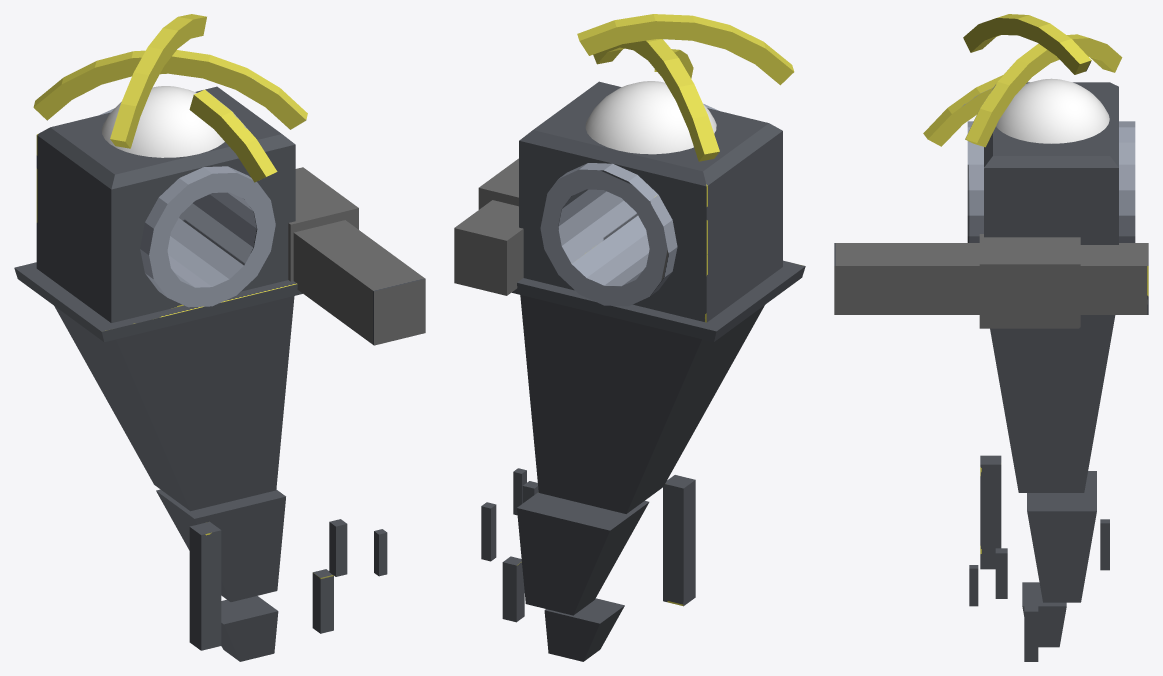
Rendered from StarRailNode.glb.
The picture shows the model from 3 angles, left to right: view 1: azimuth 30°, elevation 25°; view 2: azimuth 150°, elevation 25°; view 3: azimuth 270°, elevation 25°; orthographic projection. The views are drawn at different scales.
Parts seen in each view (by area): view 1: StarRailNode; view 2: StarRailNode; view 3: StarRailNode.
Part boxes in pixels (x1,y1,x2,y2): StarRailNode: [14, 14, 425, 661]; StarRailNode: [454, 14, 805, 661]; StarRailNode: [834, 14, 1148, 661].
Size of the model in its own units: 0.6442 by 1.39 by 0.6834.
1 material, 1 textured.
